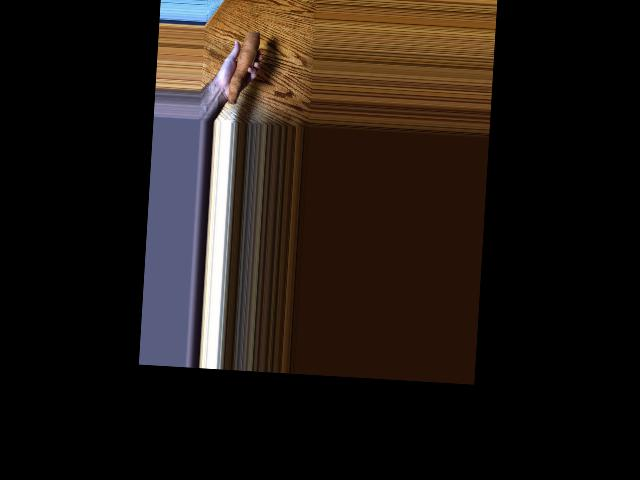sweet_potato: (227, 29, 263, 113)
